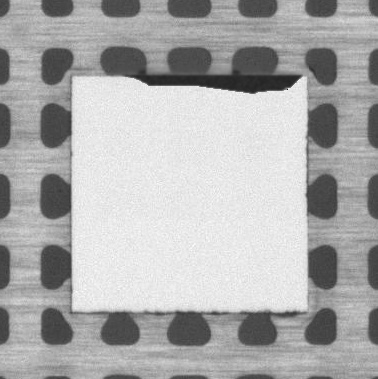DIE_BROKEN: (124, 71, 300, 95)
